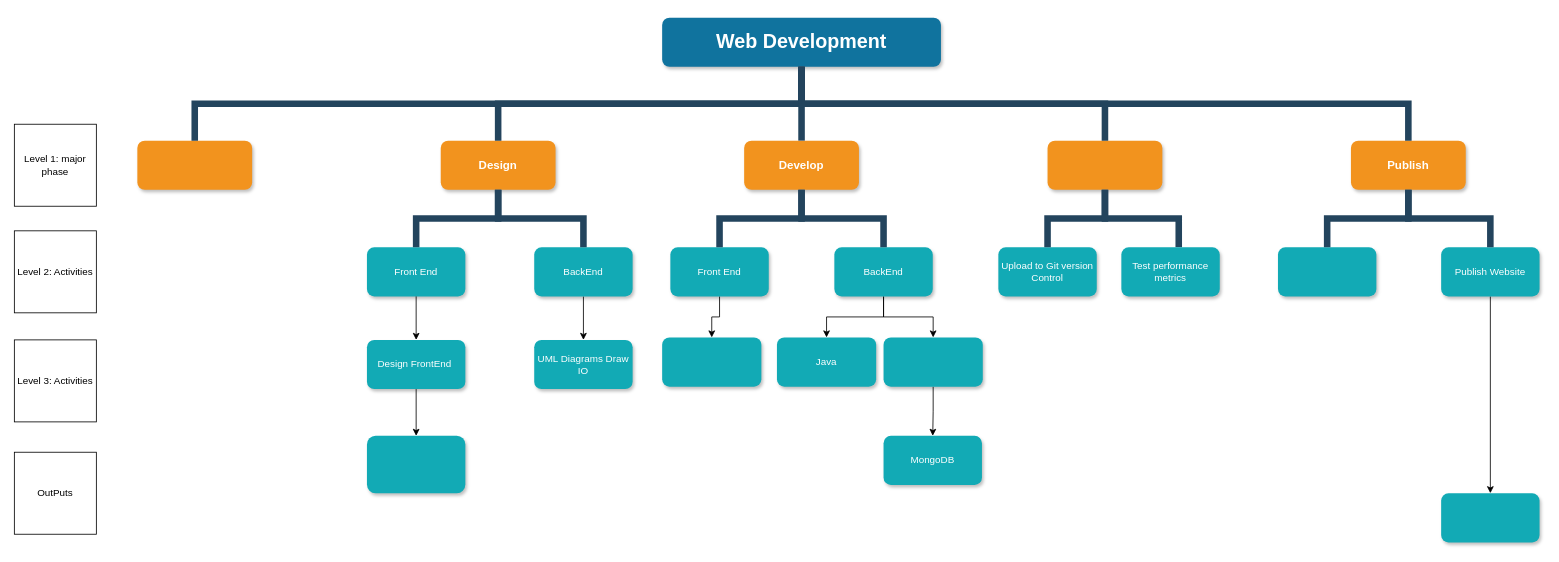
This 1559x562 diagram has some shape labels left out. The shapes that lost their labels are listed below. From the top down, each one's centre as x and y in pixels, then its label:
At (x=195, y=166): "Analysis".
At (x=1105, y=166): "Test".
At (x=1327, y=273): "Finalize Webisite".
At (x=712, y=363): "Next js, Html, Css, Node.js".
At (x=933, y=363): "Database".
At (x=416, y=465): "Figma".
At (x=1490, y=519): "Choose Publisher".
